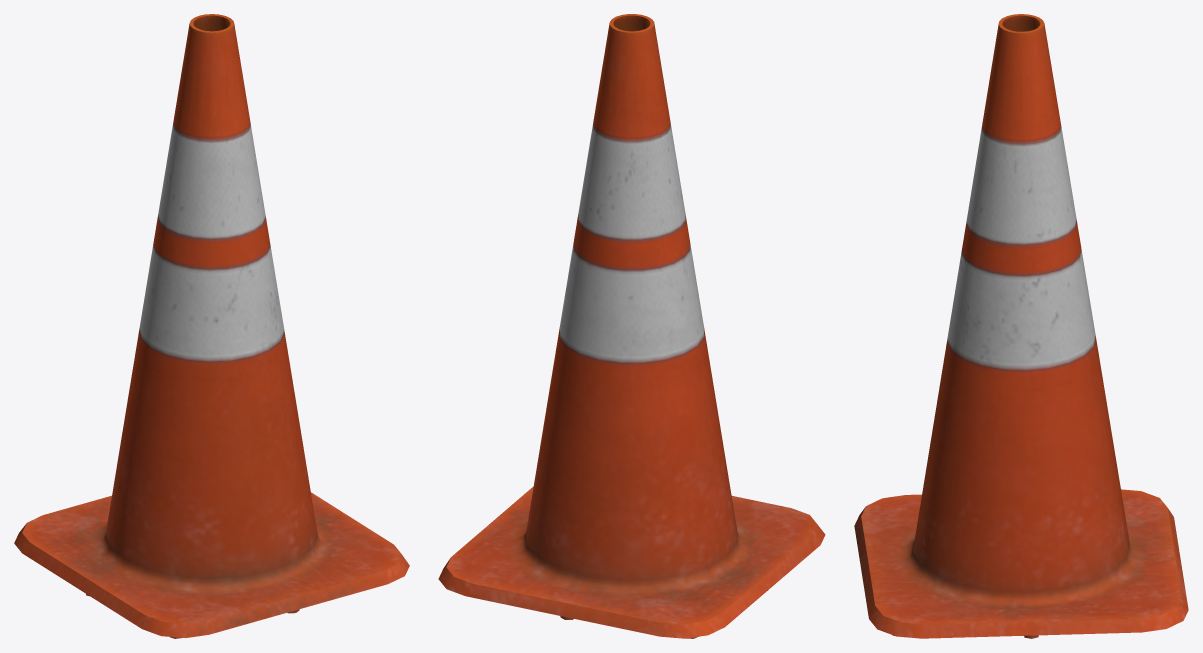
3 views of the same model, side by side, from view 1: azimuth 30°, elevation 25°; view 2: azimuth 150°, elevation 25°; view 3: azimuth 270°, elevation 25° (orthographic). The views are drawn at different scales.
Visible parts, largest first — view 1: Traffic_Cone_2_2.002_Cones_Mat_0; view 2: Traffic_Cone_2_2.002_Cones_Mat_0; view 3: Traffic_Cone_2_2.002_Cones_Mat_0.
Boxes of the visible parts, x1,y1,x2,y2 form: Traffic_Cone_2_2.002_Cones_Mat_0: [14, 14, 409, 638]; Traffic_Cone_2_2.002_Cones_Mat_0: [438, 14, 825, 638]; Traffic_Cone_2_2.002_Cones_Mat_0: [854, 14, 1188, 638].
Size of the model in its own units: 0.4042 by 0.7337 by 0.4042.
1 material, 1 textured.
